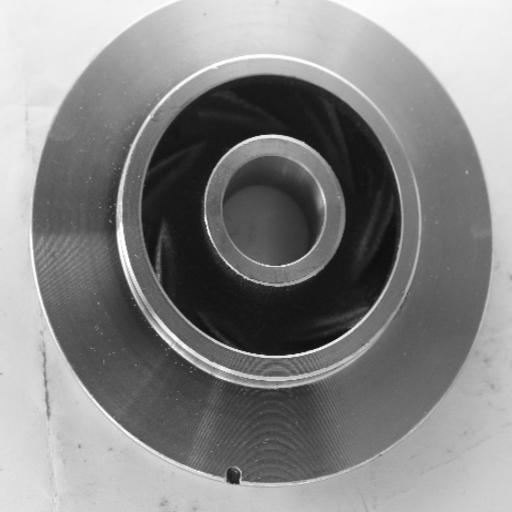crack: (212, 455, 255, 494)
unpolished_casting: (28, 0, 494, 486)
